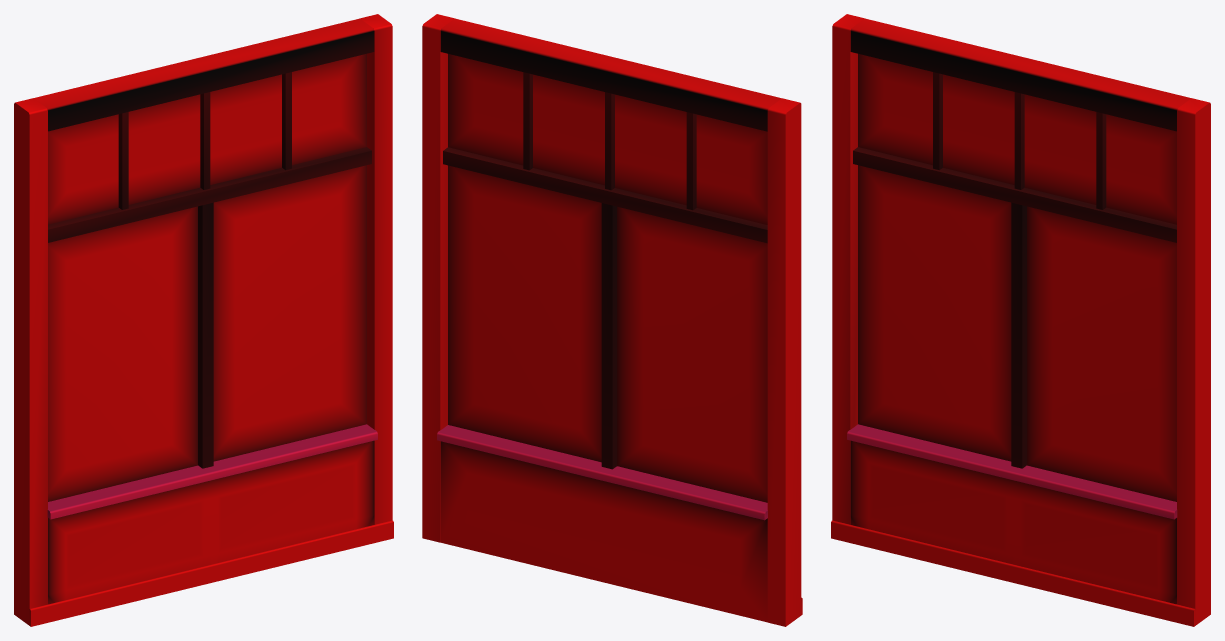
Rendered from CI_Shell_Window_Shop_2m.glb.
3 views of the same model, side by side, from view 1: azimuth 30°, elevation 25°; view 2: azimuth 150°, elevation 25°; view 3: azimuth 330°, elevation 25° (orthographic).
Visible parts, largest first — view 1: CI_Shell_Window_Shop_2m; view 2: CI_Shell_Window_Shop_2m; view 3: CI_Shell_Window_Shop_2m.
Boxes of the visible parts, bbox=[...] form: CI_Shell_Window_Shop_2m: bbox=[14, 14, 393, 626]; CI_Shell_Window_Shop_2m: bbox=[422, 14, 802, 626]; CI_Shell_Window_Shop_2m: bbox=[831, 14, 1210, 626].
Size of the model in its own units: 2 by 2.7 by 0.21.
